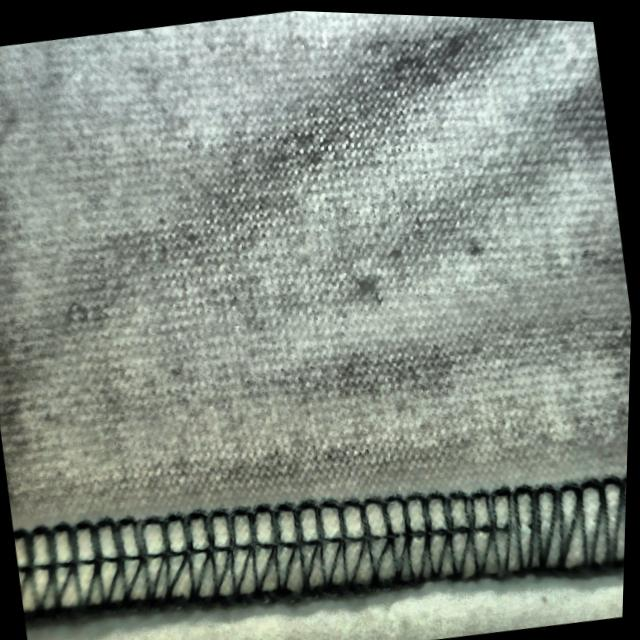Stitch: (304, 447, 630, 613)
